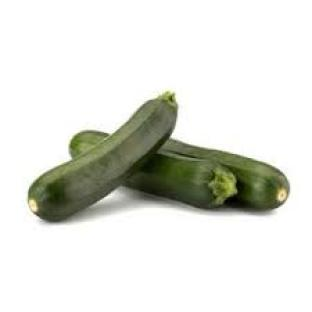Zucchini: (28, 93, 177, 220), (159, 139, 289, 209), (124, 150, 237, 207)
